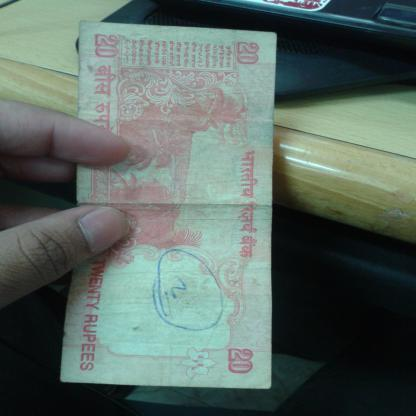Old20Back: (60, 21, 277, 388)
